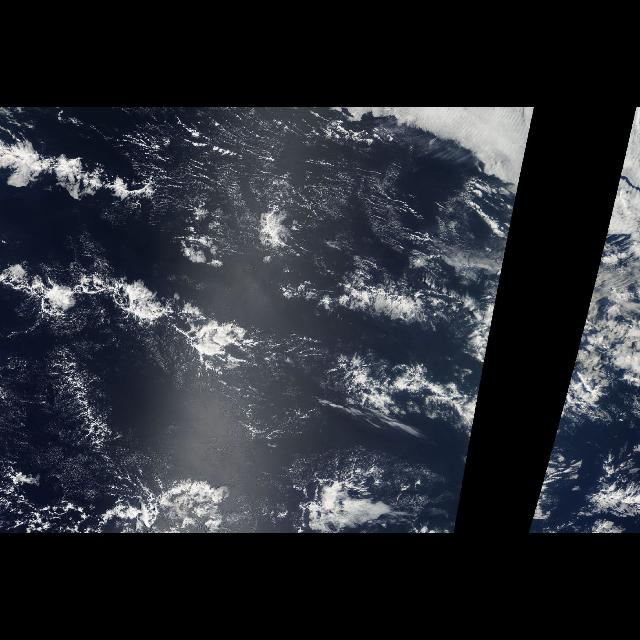Fish: (1, 260, 272, 382), (1, 128, 150, 212)
Flower: (284, 243, 510, 533), (526, 243, 640, 533)
Sugar: (102, 111, 450, 252)
